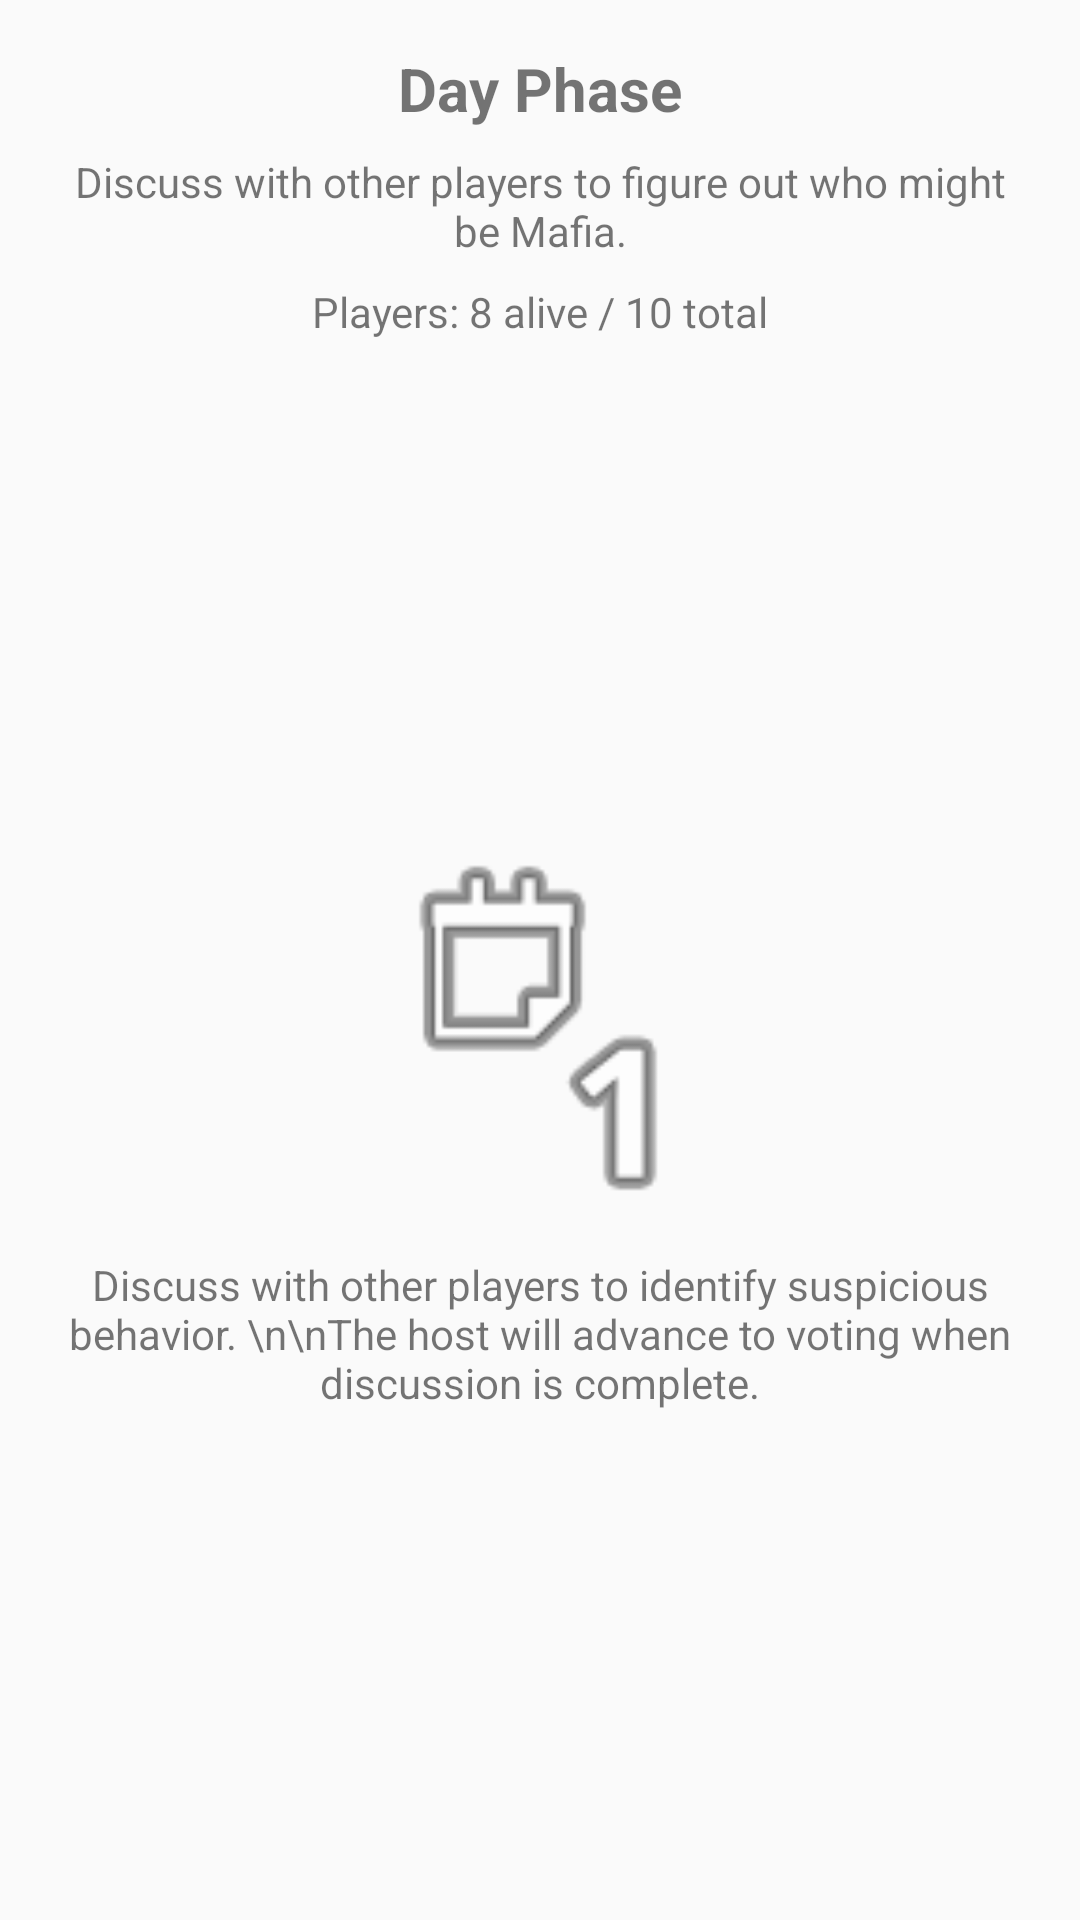

Where to tap for icons on this 1080 x 1920 app screen, as point (x, y):
Day phase icon: point (538, 1028)
